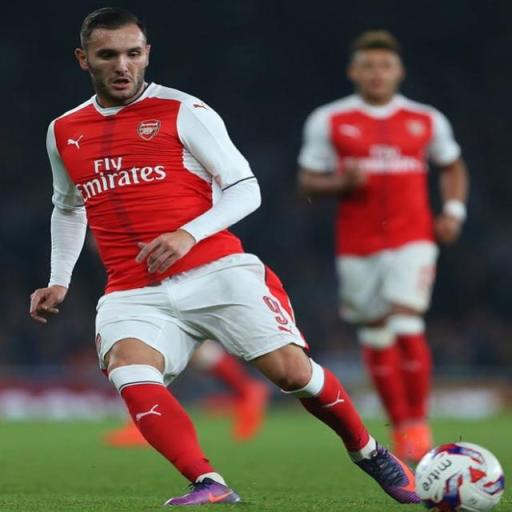Emirates: (74, 154, 168, 202)
